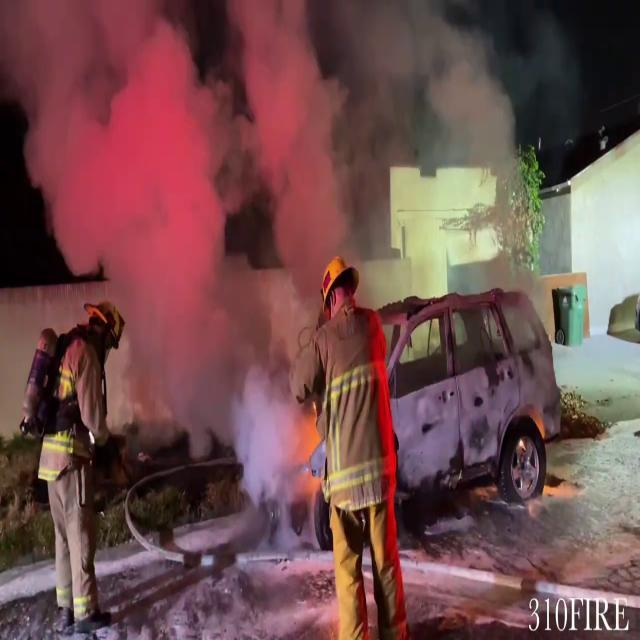Smoke: (1, 0, 570, 442)
